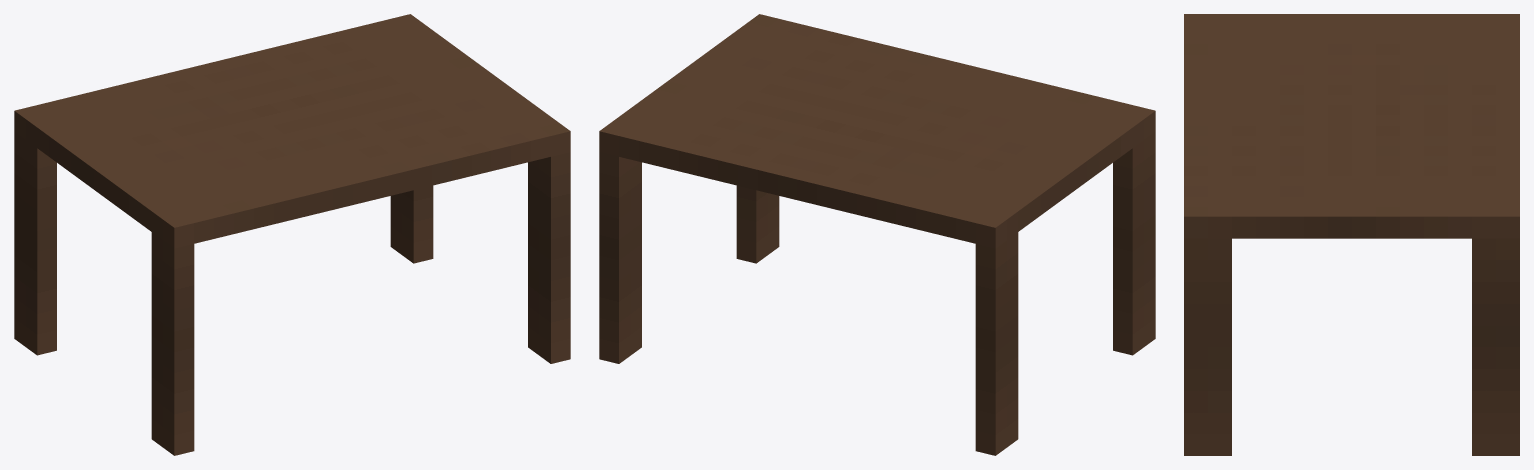
The model's file is table2.glb.
3 renders of one model, left to right at view 1: azimuth 30°, elevation 25°; view 2: azimuth 150°, elevation 25°; view 3: azimuth 270°, elevation 25°, orthographic. The views are drawn at different scales.
Visible parts, largest first — view 1: cube_4, cube_2, cube_1, cube_3, cube_0; view 2: cube_4, cube_1, cube_2, cube_0, cube_3; view 3: cube_4, cube_0, cube_3.
Boxes of the visible parts, left/top/right/bottom form: cube_4: left=14, top=14, right=570, bottom=248; cube_2: left=151, top=232, right=194, bottom=455; cube_1: left=14, top=131, right=56, bottom=355; cube_3: left=528, top=152, right=570, bottom=363; cube_0: left=390, top=185, right=433, bottom=263; cube_4: left=599, top=14, right=1155, bottom=248; cube_1: left=975, top=232, right=1018, bottom=455; cube_2: left=1113, top=131, right=1155, bottom=355; cube_0: left=599, top=152, right=641, bottom=363; cube_3: left=736, top=185, right=779, bottom=263; cube_4: left=1184, top=14, right=1519, bottom=238; cube_0: left=1472, top=238, right=1519, bottom=455; cube_3: left=1184, top=238, right=1231, bottom=455.
Size of the model in its own units: 1.25 by 0.6875 by 0.875.
Materials: 1 (1 with a texture image).
